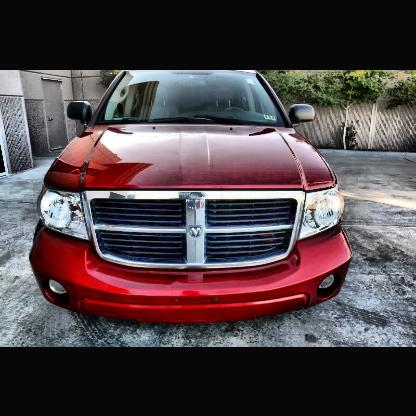Dodge Durango SUV 2007: (29, 70, 358, 326)
